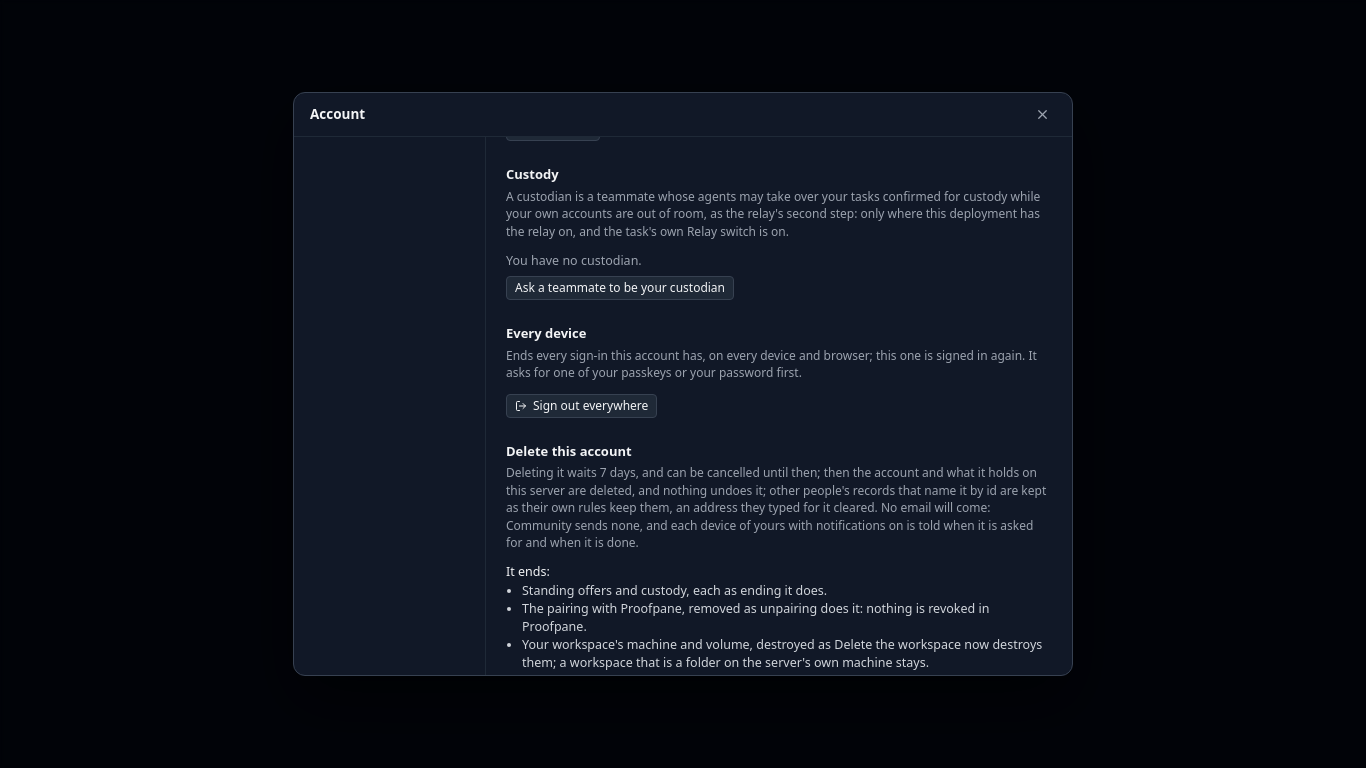
near misses in the phone app › another change a browser must confirm names the server's address in words, not as a link
The width and height of the screenshot is (1366, 768).
(page scrolled)
Click the button "Sign out everywhere" at {"x": 582, "y": 406}, box left=506, top=394, right=657, bottom=418
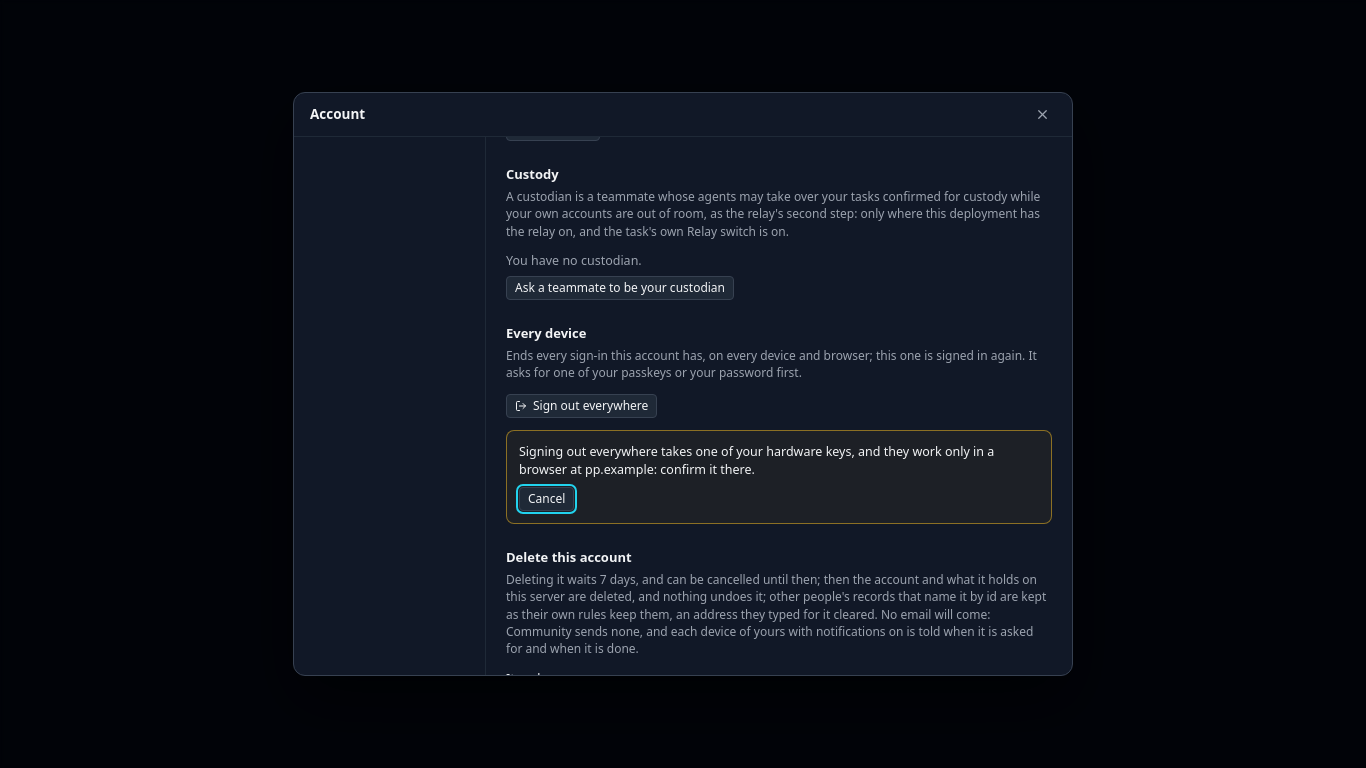
Result: the element "Signing out everywhere" shows "they work only in a browser at pp.example: confirm it there." at left=519, top=443, right=994, bottom=478
